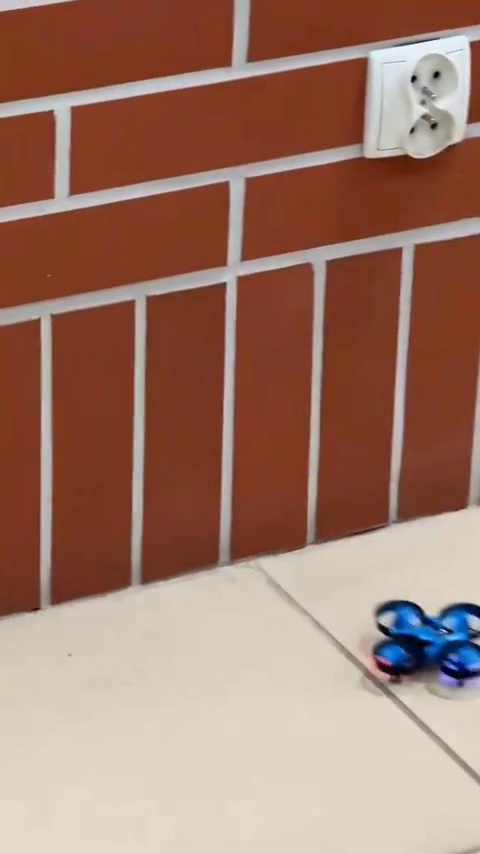drone: (360, 601, 480, 686)
